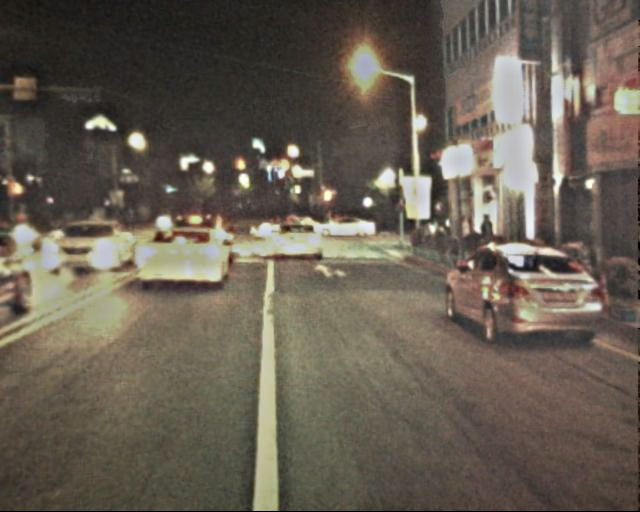person: (477, 214, 499, 268), (107, 206, 137, 231), (457, 215, 474, 256)
